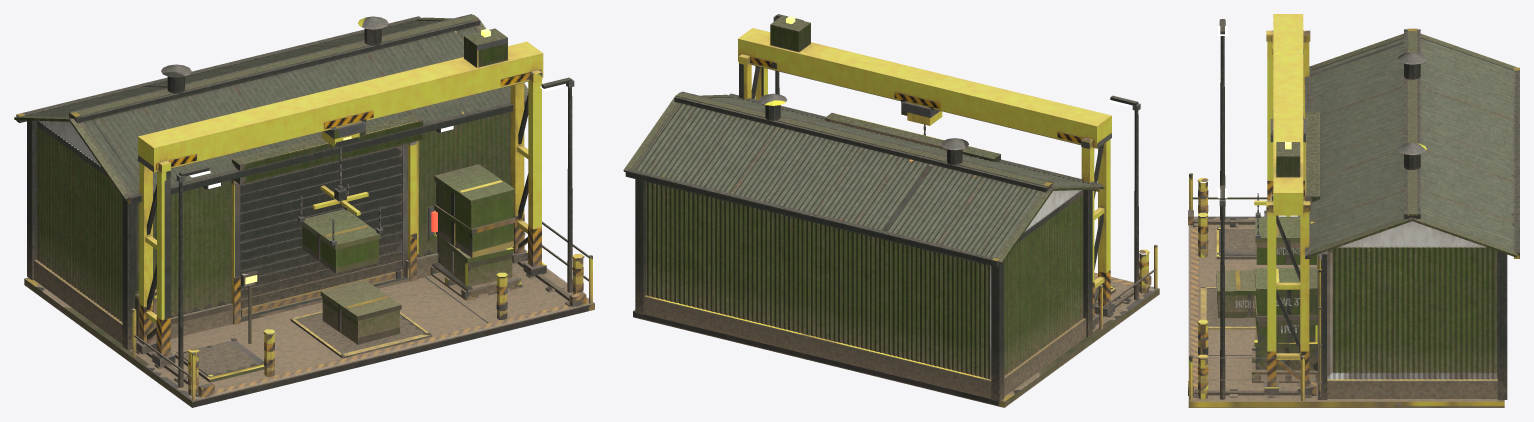
File: voorraaddepot_lod1.glb
3 renders of one model, left to right at view 1: azimuth 30°, elevation 25°; view 2: azimuth 150°, elevation 25°; view 3: azimuth 270°, elevation 25°, orthographic. The views are drawn at different scales.
Visible parts, largest first — view 1: Schuur_Verf, Portaalkraan_Geel, Schuur_Golfplaat, Perron_Beton, Poort_lamellen_Staal, Schuur_Staal, Schuur_Verf_donker, Perron_Staal, Schuur_Beton, Perron_Verf, Kist_opslag_romp, Kist_perron_romp (+16 smaller); view 2: Schuur_Verf, Schuur_Golfplaat, Portaalkraan_Geel, Schuur_Staal, Schuur_Beton, Schuur_Verf_donker, Perron_Beton, Lampen_Staal, Portaalkraan_Verf_donker, Portaalkraan_Gevaarband, Portaalkraan_Staal, Perron_Geel (+3 smaller); view 3: Schuur_Golfplaat, Schuur_Verf, Portaalkraan_Geel, Perron_Beton, Schuur_Staal, Schuur_Verf_donker, Schuur_Beton, Perron_Staal, Perron_Verf, Schuur_Binnenwand, Lampen_Staal, Perron_Gevaarband (+12 smaller).
Boxes of the visible parts, left/top/right/bottom form: Schuur_Verf: left=37, top=112, right=510, bottom=322; Portaalkraan_Geel: left=138, top=41, right=543, bottom=324; Schuur_Golfplaat: left=23, top=19, right=526, bottom=194; Perron_Beton: left=24, top=260, right=594, bottom=407; Poort_lamellen_Staal: left=240, top=145, right=402, bottom=308; Schuur_Staal: left=16, top=14, right=526, bottom=350; Schuur_Verf_donker: left=14, top=15, right=528, bottom=200; Perron_Staal: left=134, top=220, right=588, bottom=378; Schuur_Beton: left=34, top=253, right=438, bottom=344; Perron_Verf: left=434, top=204, right=515, bottom=286; Kist_opslag_romp: left=434, top=164, right=515, bottom=228; Kist_perron_romp: left=320, top=280, right=401, bottom=344; Schuur_Verf: left=646, top=181, right=1083, bottom=379; Schuur_Golfplaat: left=631, top=96, right=1096, bottom=258; Portaalkraan_Geel: left=738, top=28, right=1111, bottom=288; Schuur_Staal: left=625, top=91, right=1102, bottom=401; Schuur_Beton: left=644, top=295, right=1086, bottom=398; Schuur_Verf_donker: left=623, top=92, right=1104, bottom=263; Perron_Beton: left=633, top=272, right=1159, bottom=407; Lampen_Staal: left=775, top=14, right=1139, bottom=300; Portaalkraan_Verf_donker: left=770, top=16, right=810, bottom=51; Portaalkraan_Gevaarband: left=739, top=54, right=1110, bottom=317; Portaalkraan_Staal: left=751, top=66, right=1103, bottom=304; Perron_Geel: left=1099, top=244, right=1157, bottom=329; Schuur_Golfplaat: left=1310, top=36, right=1514, bottom=251; Schuur_Verf: left=1327, top=247, right=1497, bottom=379; Portaalkraan_Geel: left=1266, top=14, right=1310, bottom=359; Perron_Beton: left=1188, top=216, right=1504, bottom=407; Schuur_Staal: left=1305, top=29, right=1519, bottom=399; Schuur_Verf_donker: left=1305, top=28, right=1517, bottom=257; Schuur_Beton: left=1327, top=379, right=1497, bottom=398; Perron_Staal: left=1192, top=197, right=1300, bottom=380; Perron_Verf: left=1254, top=296, right=1317, bottom=370; Schuur_Binnenwand: left=1338, top=221, right=1485, bottom=247; Lampen_Staal: left=1220, top=19, right=1225, bottom=399; Perron_Gevaarband: left=1191, top=190, right=1208, bottom=400.
Bounding box in the file's own units: 9.16 × 5.42 × 6.82.
Materials: 5 (2 with a texture image).
